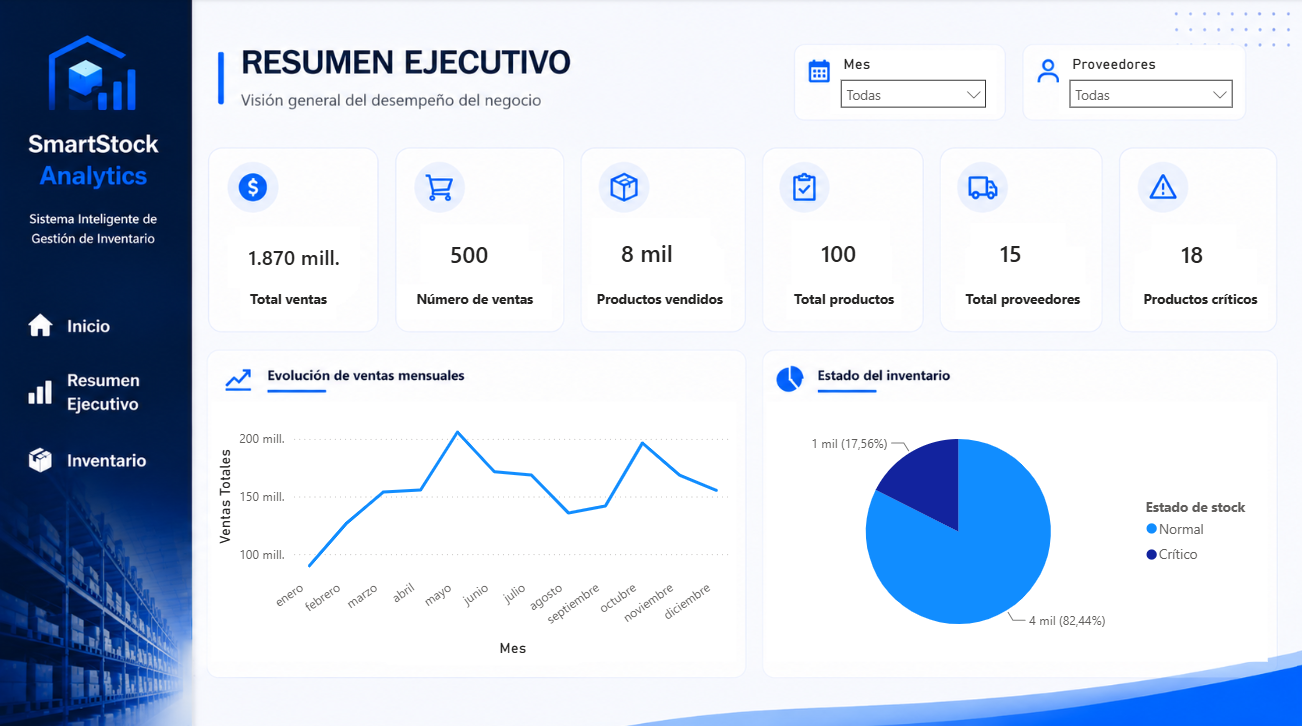

Layout of this report page (visuals, bound fields, positions):
{"tool":"powerbi","page":{"name":"Resumen Ejecutivo","canvas":[1280,720],"ordinal":1},"visuals":[{"type":"lineChart","title":"Evolución de ventas mensuales","fields":{"Y":["Sum(proyecto ventas.total_venta)"],"Category":["proyecto ventas.fecha_venta.Variación.Jerarquía de fechas.Mes"]},"box":[208.6,396.3,515.3,255.2],"z":0},{"type":"pieChart","title":"Estado del inventario","fields":{"Category":["proyecto inventario.Estado Stock"],"Y":["Sum(proyecto inventario.id_inventario)"]},"box":[753.4,396.3,492,255.2],"z":1000},{"type":"slicer","fields":{"Values":["proyecto ventas.Mes"]},"box":[816,51.5,163.2,62.6],"z":2000},{"type":"slicer","fields":{"Values":["proyecto proveedores.nombre"]},"box":[1040.5,51.5,180.4,62.6],"z":3000},{"type":"cardVisual","fields":{"Data":["Sum(proyecto ventas.total_venta)"]},"box":[227,219.6,132.5,66.3],"z":4000},{"type":"cardVisual","fields":{"Data":["CountNonNull(proyecto ventas.id_venta)"]},"box":[413.5,222.1,106.7,56.4],"z":5000},{"type":"cardVisual","fields":{"Data":["Sum(proyecto detalle_venta.cantidad)"]},"box":[581.6,216,116.6,65],"z":6000},{"type":"cardVisual","fields":{"Data":["CountNonNull(proyecto productos.id_producto)"]},"box":[777.9,218.4,96.9,61.4],"z":7000},{"type":"cardVisual","fields":{"Data":["CountNonNull(proyecto proveedores.id_proveedor)"]},"box":[953.4,220.9,93.3,56.4],"z":8000},{"type":"cardVisual","fields":{"Data":["proyecto categorias.Productos Criticos"]},"box":[1131.3,222.1,83.4,56.4],"z":9000},{"type":"textbox","box":[236.8,281,94.5,34.4],"z":10000},{"type":"textbox","box":[391.4,281,150.9,34.4],"z":11000},{"type":"textbox","box":[577.9,281,141.1,34.4],"z":12000},{"type":"textbox","box":[773,281,112.9,34.4],"z":13000},{"type":"textbox","box":[938.7,281,132.5,34.4],"z":14000},{"type":"textbox","box":[1112.9,281,132.5,34.4],"z":15000},{"type":"actionButton","box":[22.1,301.8,100.6,40.5],"z":16000},{"type":"actionButton","box":[22.1,430.7,128.8,47.9],"z":17000}]}

Visuals, with their boxes on the page's 1280x720 design canvas (x1, y1, x2, y2). These are canvas units, not pixel positions in the 1302x726 screenshot, which may show the page scaled, cropped or inside an application window:
"Evolución de ventas mensuales" lineChart: (209,396,724,652)
"Estado del inventario" pieChart: (753,396,1245,652)
slicer - proyecto ventas.Mes: (816,52,979,114)
slicer - proyecto proveedores.nombre: (1040,52,1221,114)
cardVisual - Sum(proyecto ventas.total_venta): (227,220,360,286)
cardVisual - CountNonNull(proyecto ventas.id_venta): (414,222,520,278)
cardVisual - Sum(proyecto detalle_venta.cantidad): (582,216,698,281)
cardVisual - CountNonNull(proyecto productos.id_producto): (778,218,875,280)
cardVisual - CountNonNull(proyecto proveedores.id_proveedor): (953,221,1047,277)
cardVisual - proyecto categorias.Productos Criticos: (1131,222,1215,278)
textbox: (237,281,331,315)
textbox: (391,281,542,315)
textbox: (578,281,719,315)
textbox: (773,281,886,315)
textbox: (939,281,1071,315)
textbox: (1113,281,1245,315)
actionButton: (22,302,123,342)
actionButton: (22,431,151,479)
